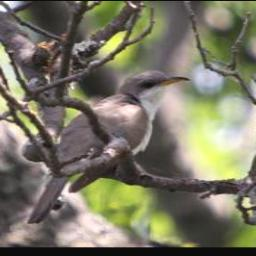Cuckoo: (28, 65, 193, 229)
